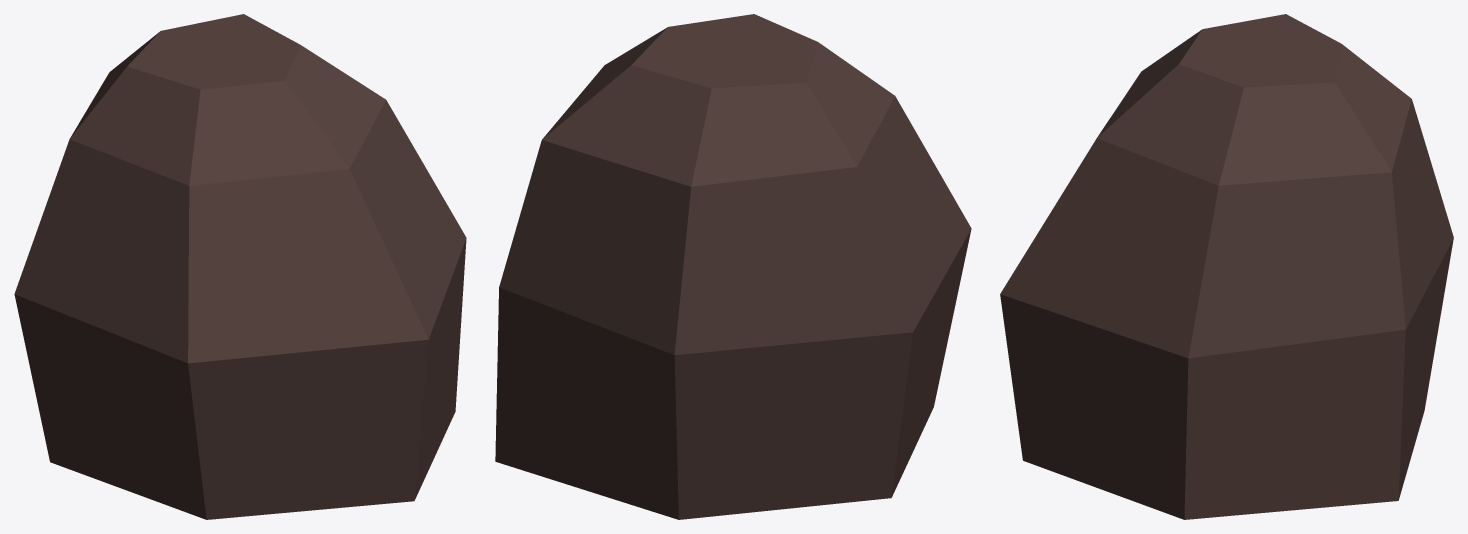
Rendered from site_rock2.fbx.
3 renders of one model, left to right at view 1: azimuth 30°, elevation 25°; view 2: azimuth 150°, elevation 25°; view 3: azimuth 270°, elevation 25°, orthographic. The views are drawn at different scales.
Parts seen in each view (by area): view 1: a1022/0/site_rock2; view 2: a1022/0/site_rock2; view 3: a1022/0/site_rock2.
Boxes of the visible parts, left/top/right/bottom form: a1022/0/site_rock2: left=14, top=14, right=466, bottom=519; a1022/0/site_rock2: left=495, top=14, right=971, bottom=519; a1022/0/site_rock2: left=1000, top=14, right=1453, bottom=519.
Bounding box in the file's own units: 2.13 × 1.93 × 2.13.
